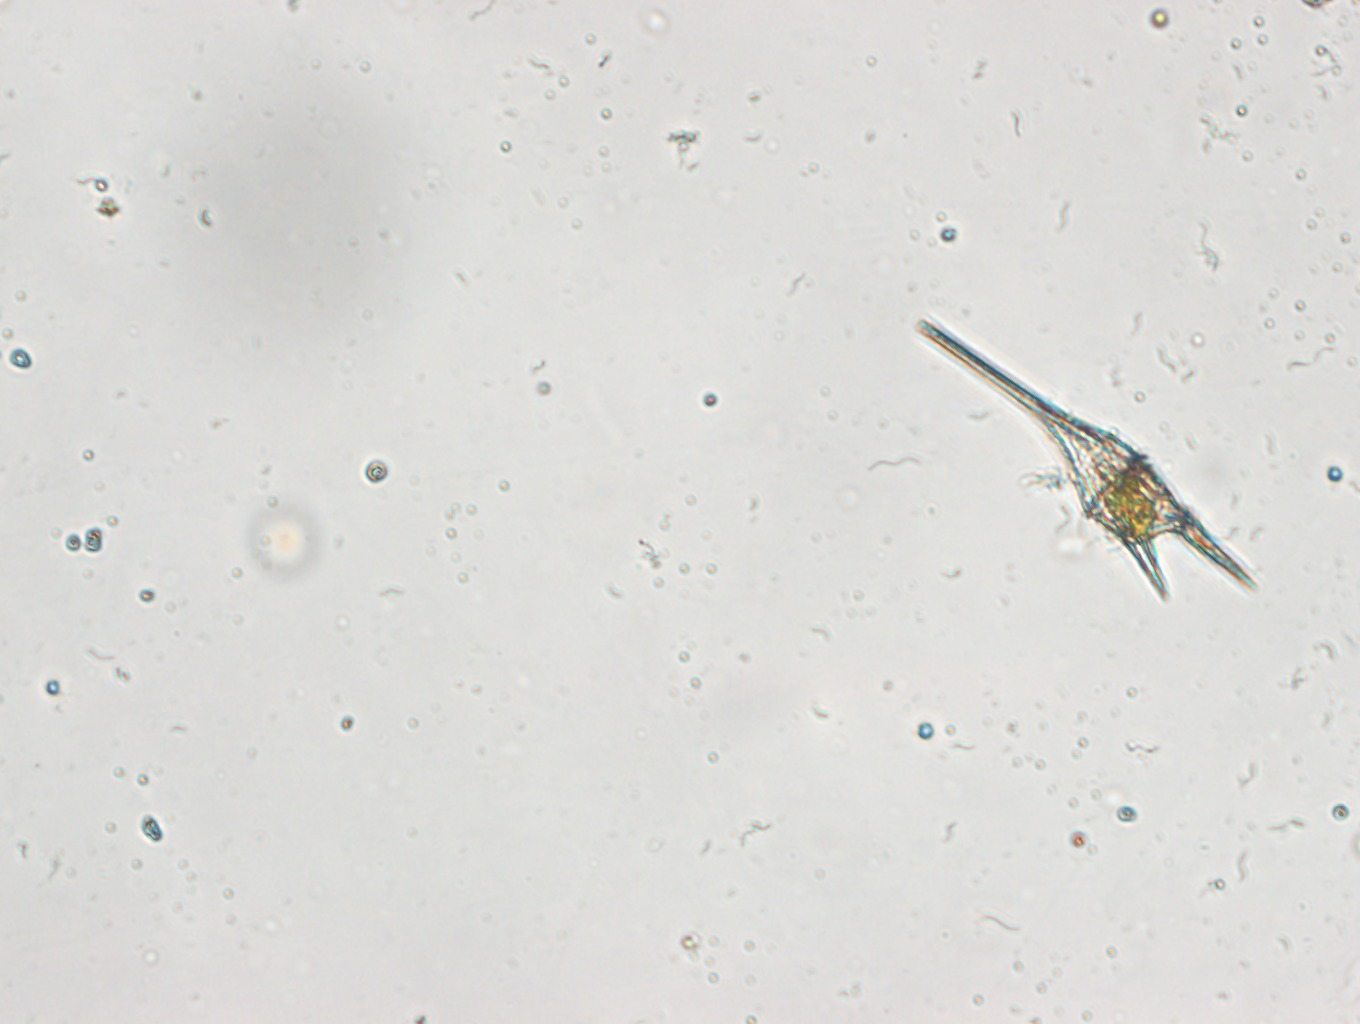ceratium furca: (910, 314, 1264, 615)
